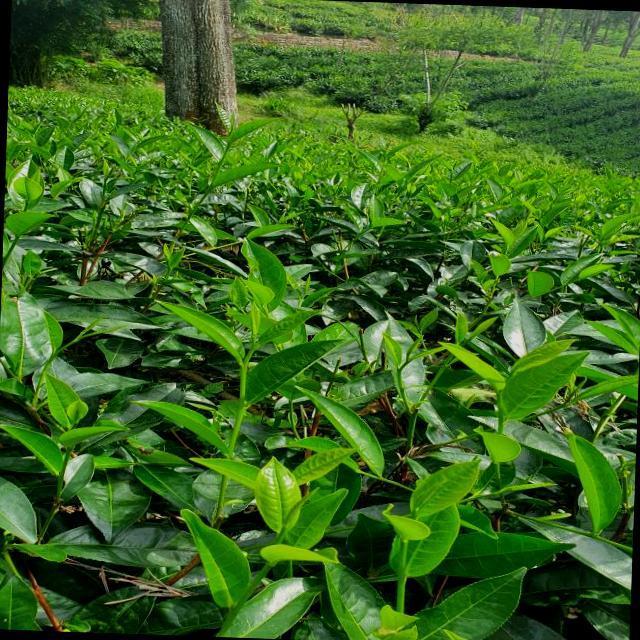Stem: (400, 542, 407, 564), (437, 363, 449, 375), (497, 394, 504, 410), (241, 369, 245, 388), (224, 145, 230, 154), (397, 372, 401, 385)
